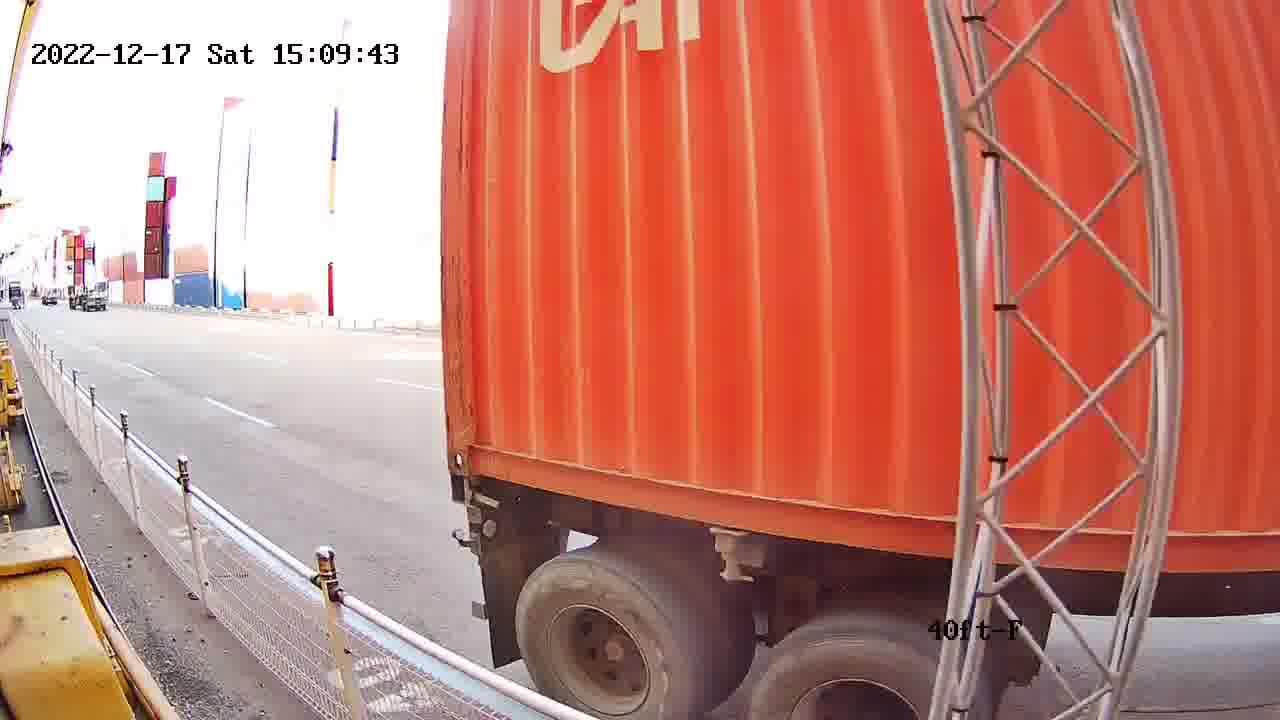Cone: (450, 477, 483, 506)
Hole_L: (446, 414, 501, 481)
Tire: (512, 555, 692, 718), (748, 634, 976, 719)
